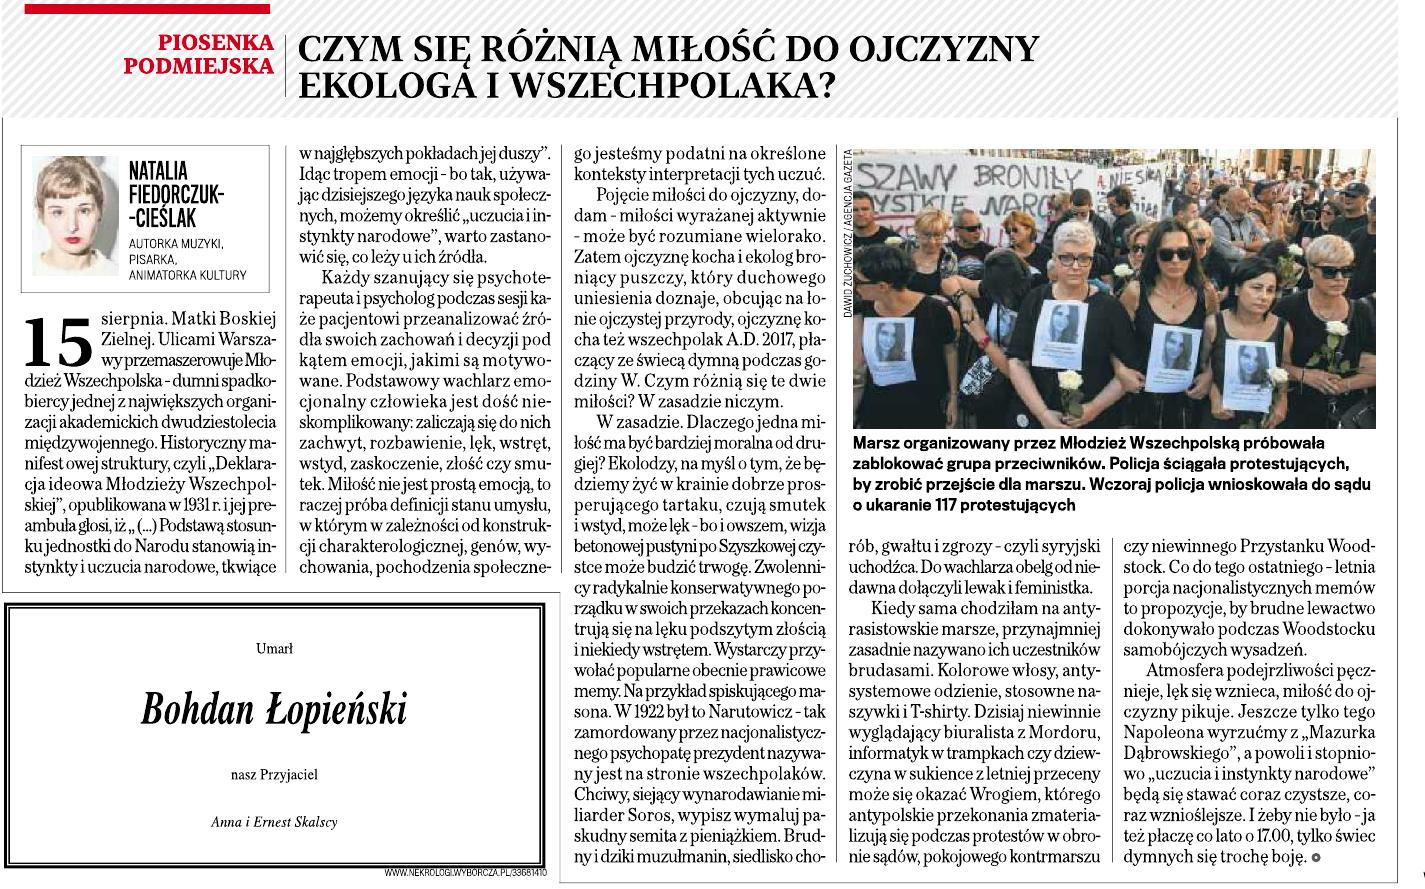author: (121, 150, 226, 232)
body: (567, 137, 831, 872), (290, 140, 556, 582), (1116, 526, 1385, 873), (840, 528, 1110, 872), (13, 297, 284, 586)
caption: (845, 429, 1382, 516)
image: (844, 141, 1384, 432)
title: (116, 17, 1051, 105)
